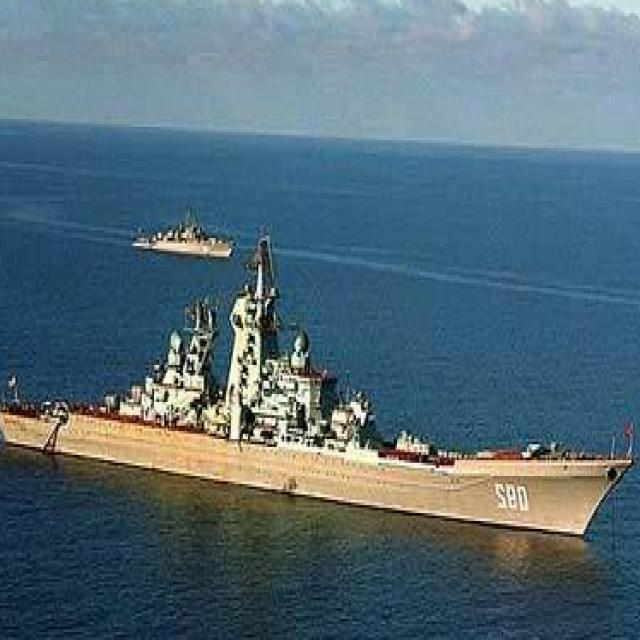navalvessels: (0, 251, 640, 561), (115, 194, 265, 292)
